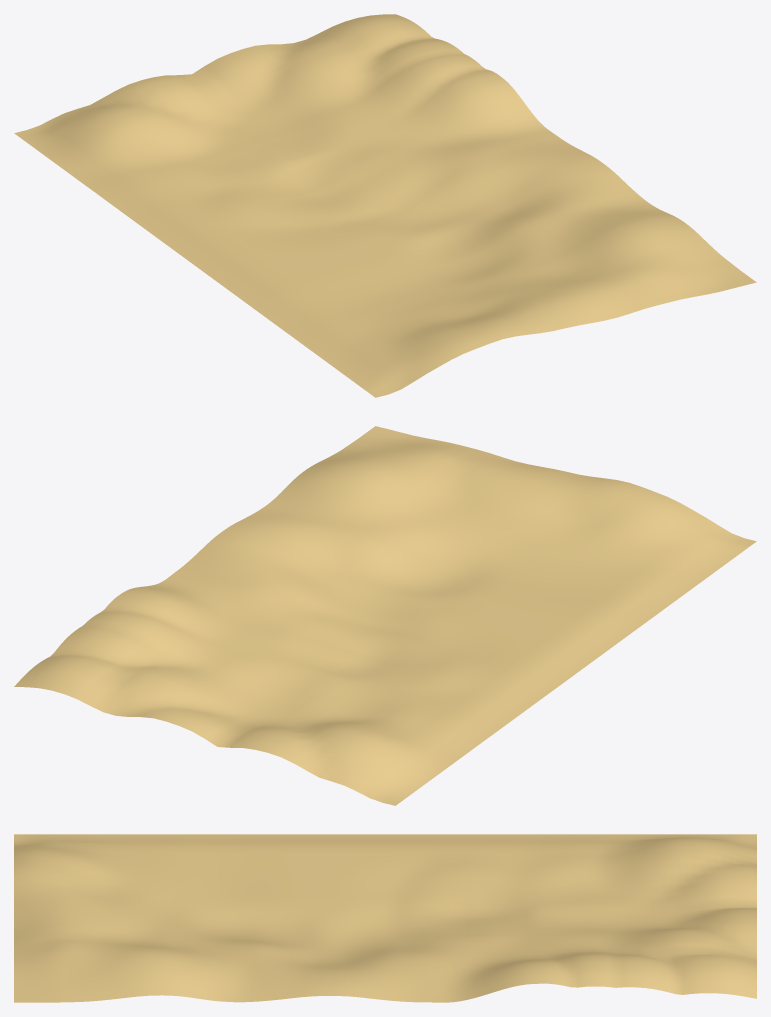
The model's file is beach variation 1.fbx.
3 renders of one model, top to bottom at view 1: azimuth 30°, elevation 25°; view 2: azimuth 150°, elevation 25°; view 3: azimuth 270°, elevation 25°, orthographic. The views are drawn at different scales.
Parts seen in each view (by area): view 1: Beach; view 2: Beach; view 3: Beach.
Part boxes in pixels (x1=…): Beach: x1=14, y1=14, x2=756, y2=397; Beach: x1=14, y1=426, x2=756, y2=805; Beach: x1=14, y1=834, x2=756, y2=1002.
Bounding box in the file's own units: 104 × 11.33 × 171.
